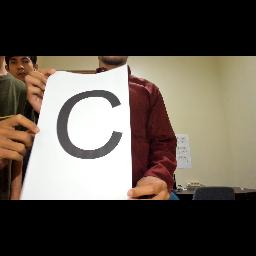c: (51, 84, 133, 164)
